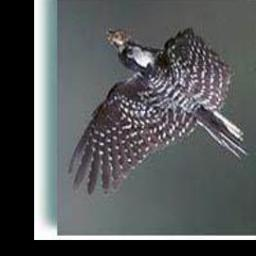Woodpecker: (60, 21, 247, 204)
